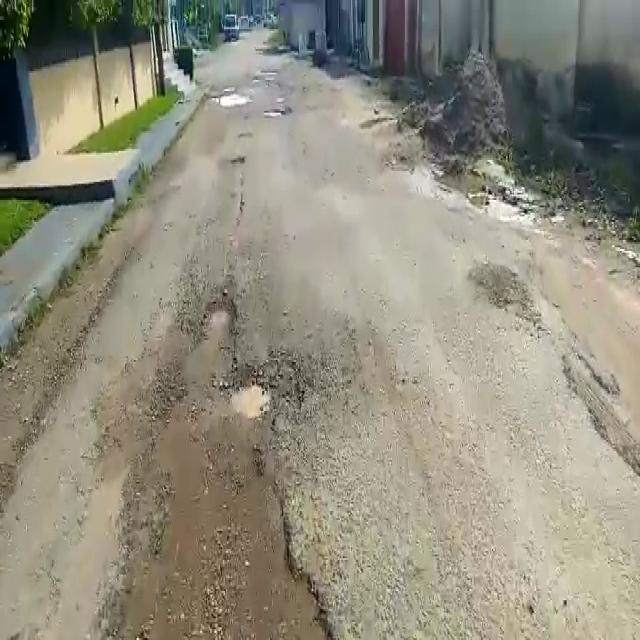Pothole: (231, 353, 303, 422), (199, 296, 239, 341)
